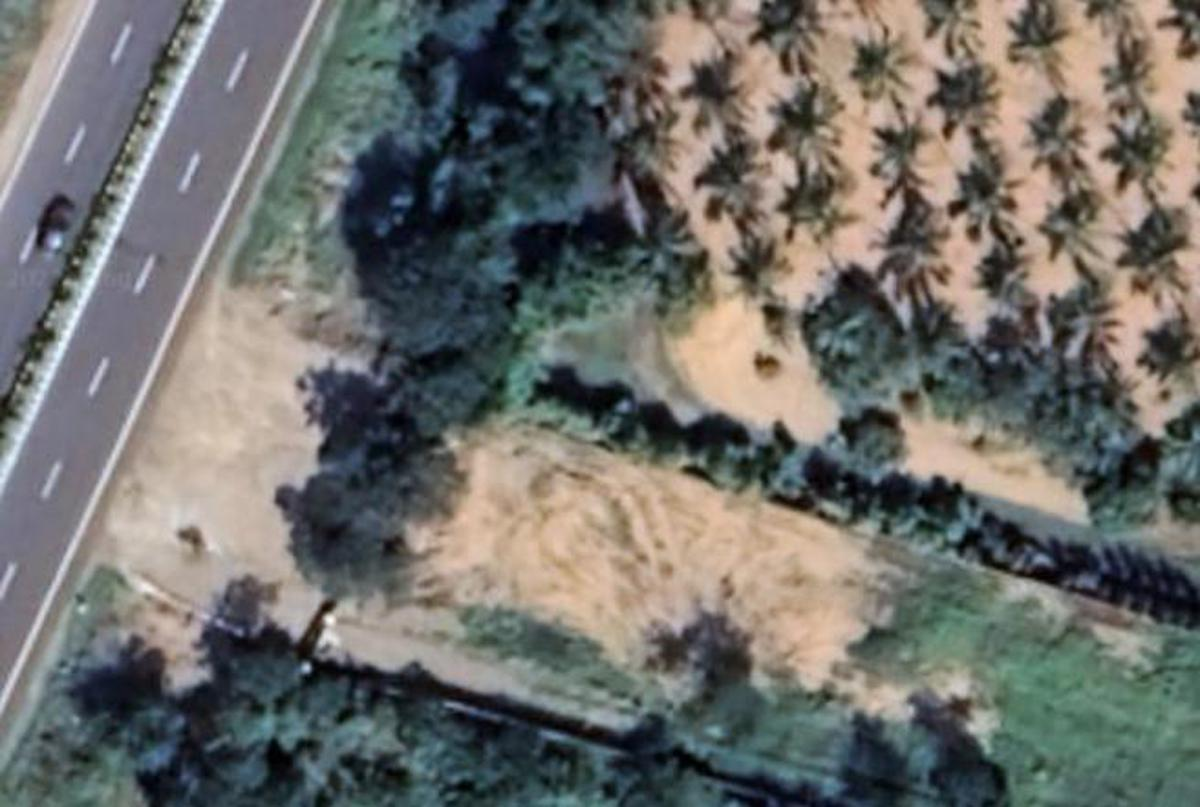coconut: (1037, 272, 1130, 365), (868, 232, 956, 325), (691, 142, 779, 226), (1115, 210, 1196, 296), (940, 159, 1024, 241), (1028, 91, 1108, 175), (929, 58, 1007, 135), (1035, 186, 1112, 263), (1134, 307, 1200, 395), (684, 53, 760, 129), (1099, 113, 1174, 190), (845, 25, 921, 100), (788, 155, 854, 241), (751, 0, 830, 71), (1097, 20, 1172, 91), (771, 86, 850, 153), (867, 118, 942, 188), (718, 236, 790, 305), (1006, 0, 1071, 69), (916, 0, 993, 58), (975, 239, 1039, 307)
